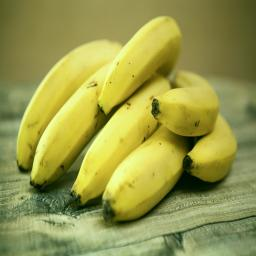banana: (7, 14, 254, 238)
